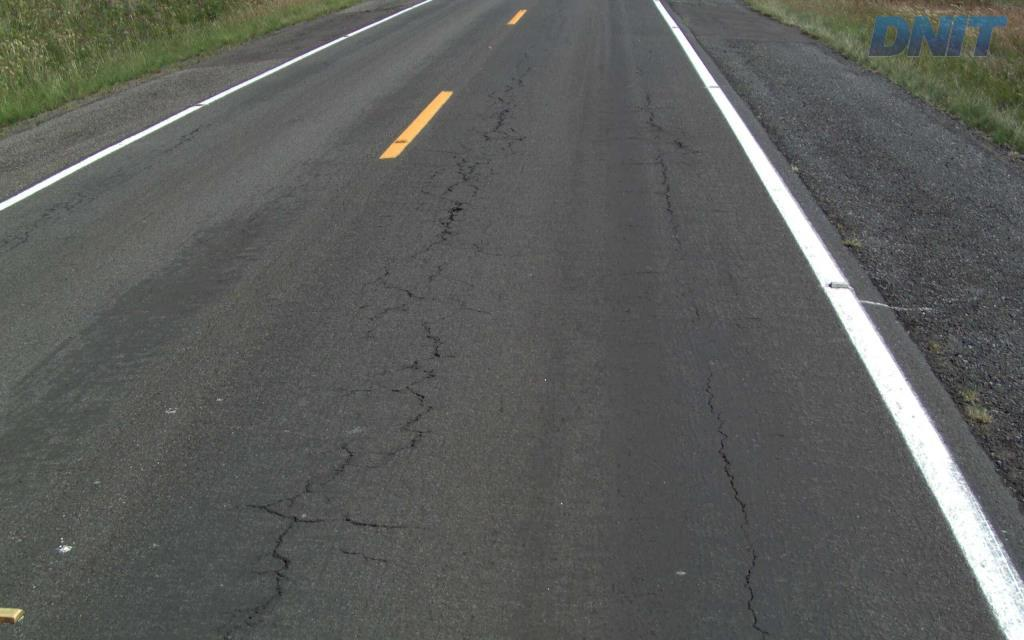crack: (717, 422, 748, 524), (743, 548, 761, 632)
